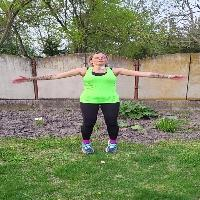jumping_jacks: (18, 52, 186, 162)
